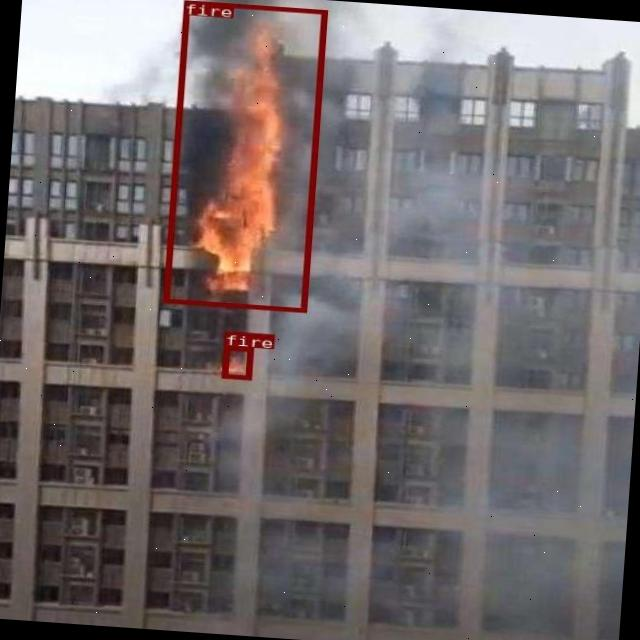fire: (163, 0, 327, 311), (221, 346, 252, 378)
